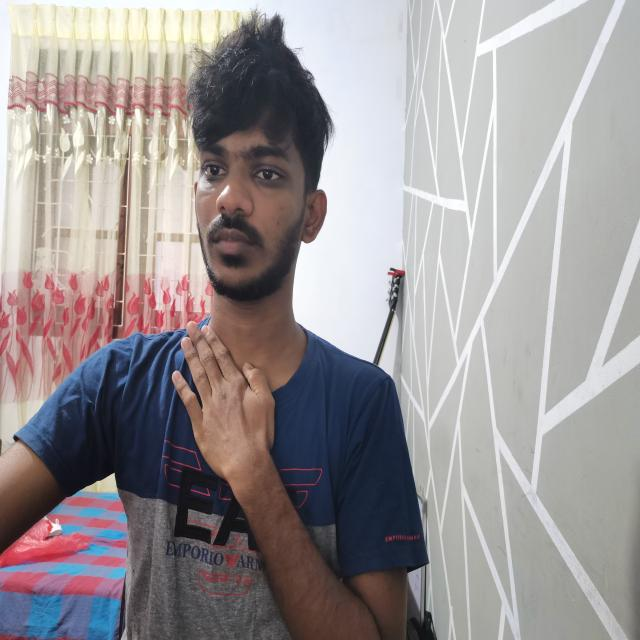Please: (168, 319, 422, 640)
